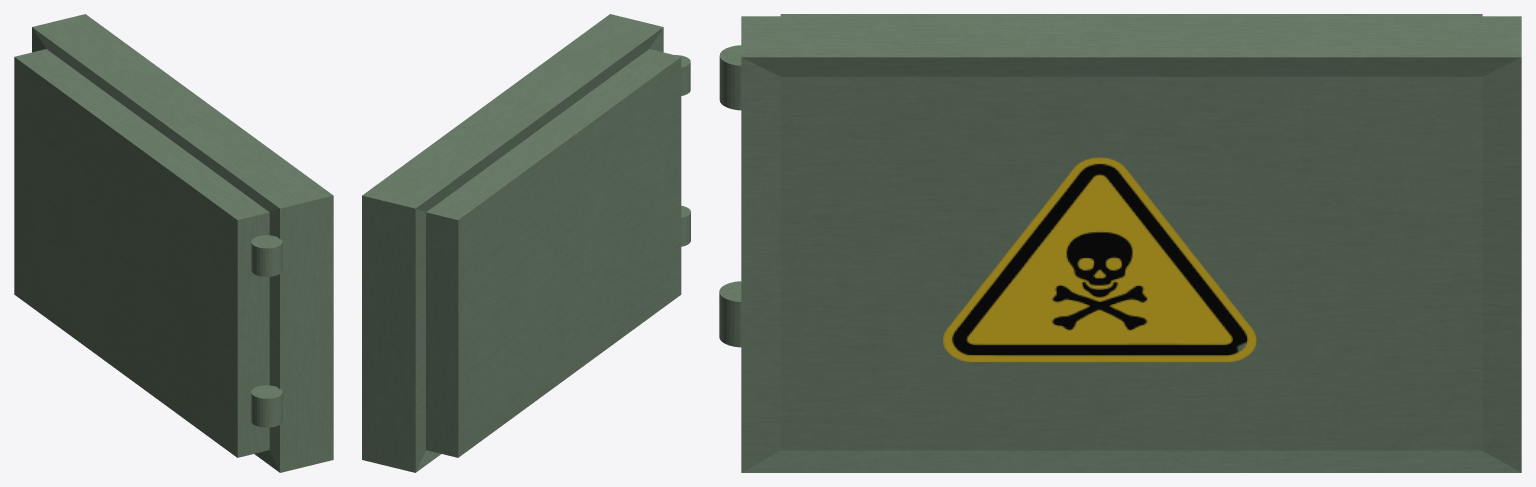
The model's file is cajaDeFusibles.fbx.
The picture shows the model from 3 angles, left to right: view 1: azimuth 30°, elevation 25°; view 2: azimuth 150°, elevation 25°; view 3: azimuth 270°, elevation 25°; orthographic projection. The views are drawn at different scales.
Parts seen in each view (by area): view 1: parte de arriba 2; view 2: parte de arriba 2; view 3: parte de arriba 2.
Part boxes in pixels (bbox=[...]): parte de arriba 2: bbox=[14, 14, 333, 472]; parte de arriba 2: bbox=[362, 14, 690, 472]; parte de arriba 2: bbox=[719, 14, 1521, 472].
Size of the model in its own units: 43.29 by 131 by 229.
1 material, 1 textured.
